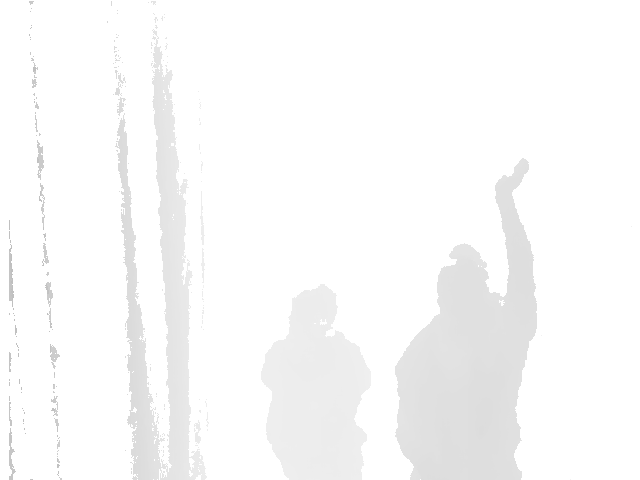hand: (494, 159, 530, 198)
head: (436, 244, 490, 317), (287, 284, 337, 337)
person: (389, 159, 539, 479), (258, 284, 371, 480)
